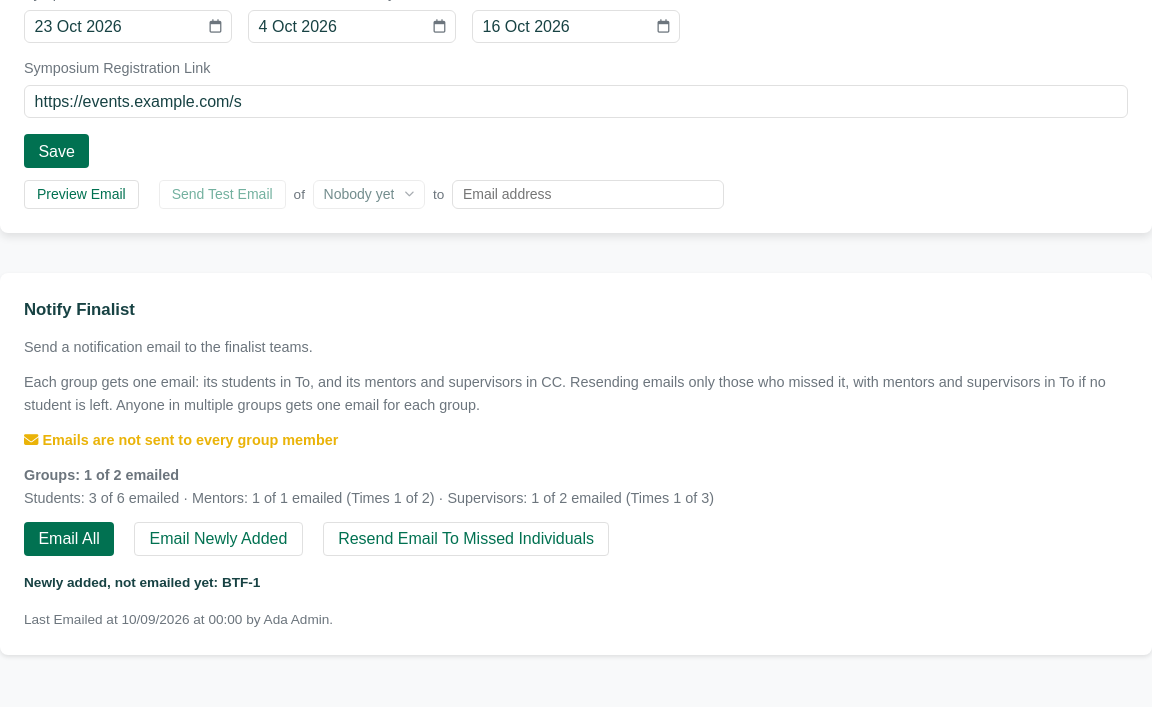
sending › a send pressed while another is going says it is queued
The width and height of the screenshot is (1152, 707).
(page scrolled)
Click the button "Email All". click: (69, 539)
box: [24, 522, 114, 556]
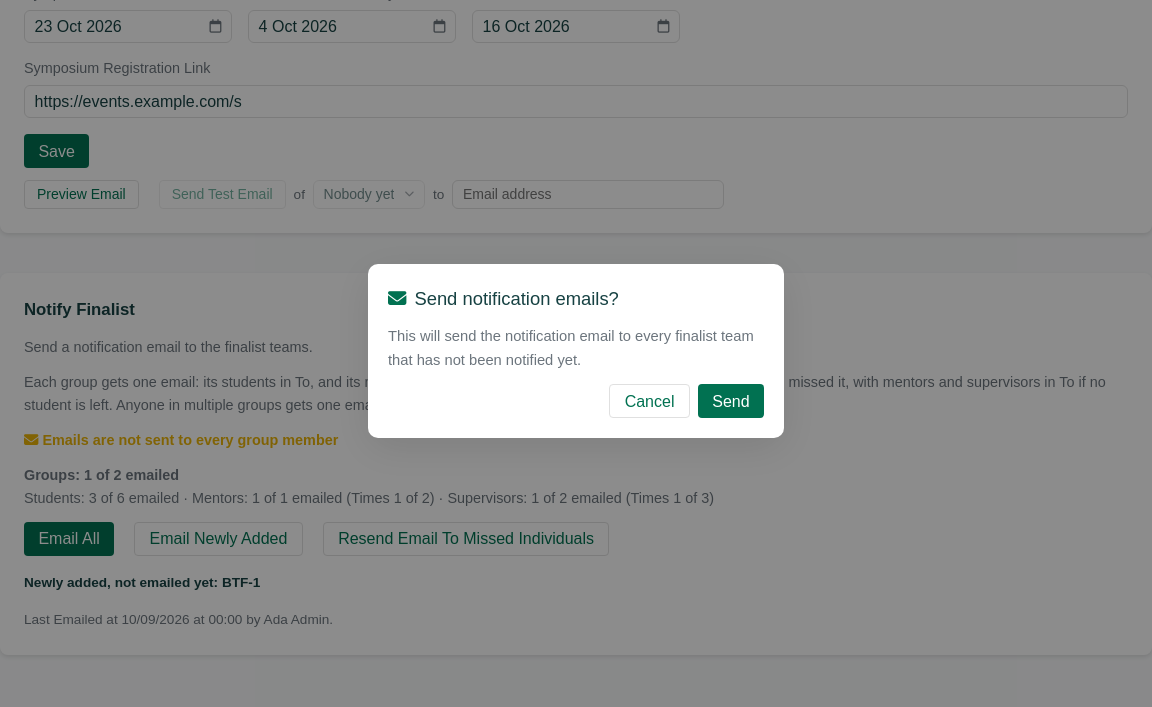
Click the button "Send". click: (731, 401)
box: [698, 384, 764, 418]
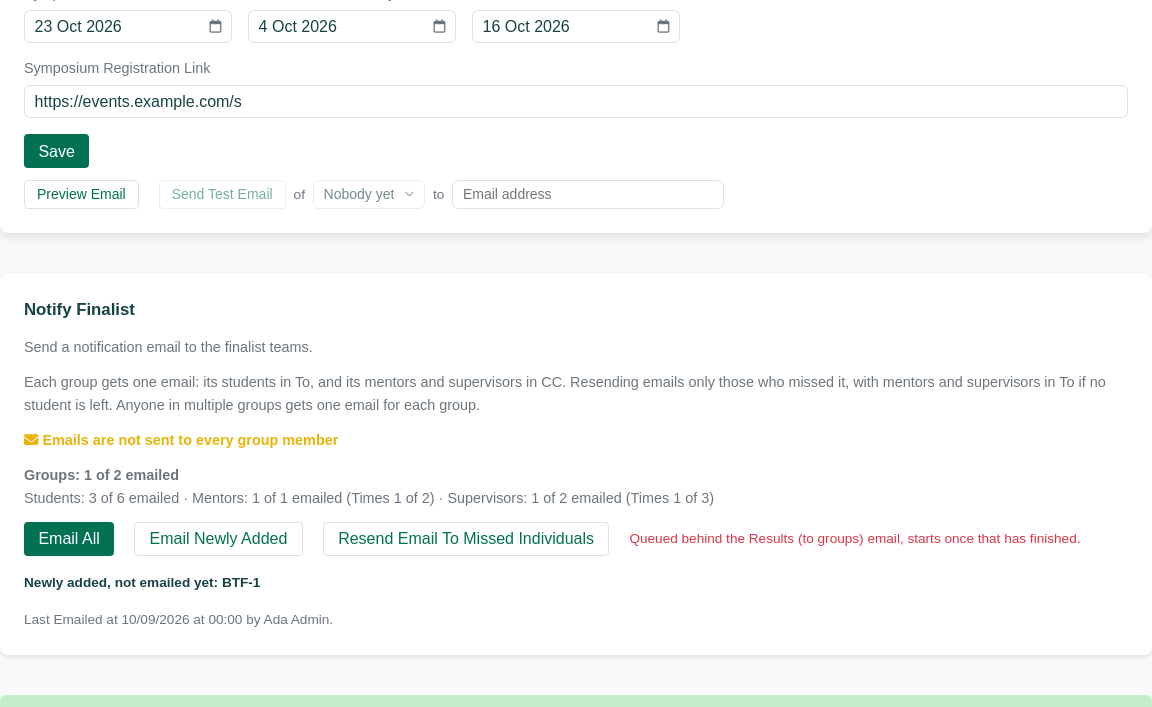
Expected: the message with class "notify-finalists__queued" reads "Queued behind the Results (to groups) email, starts once that has finished.", [629, 531, 1080, 546]
